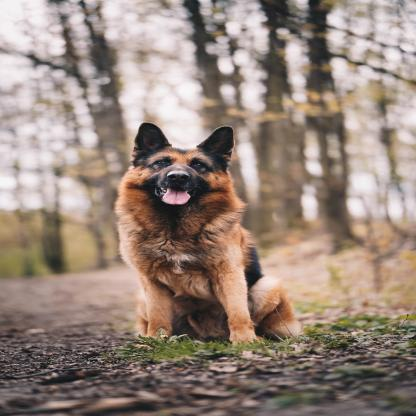dog: (112, 124, 314, 348)
